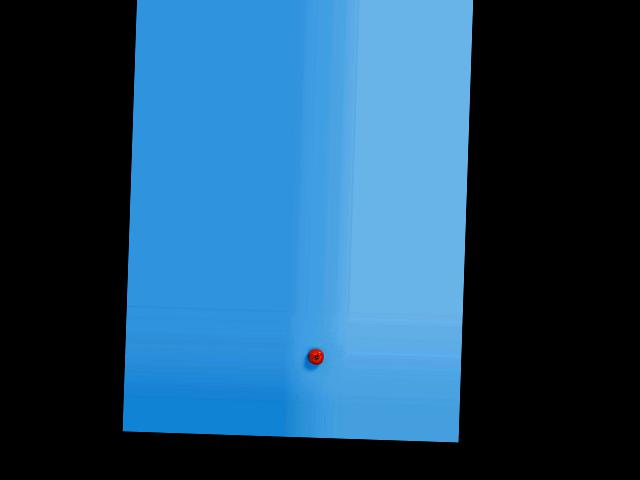tomato: (308, 349, 324, 365)
